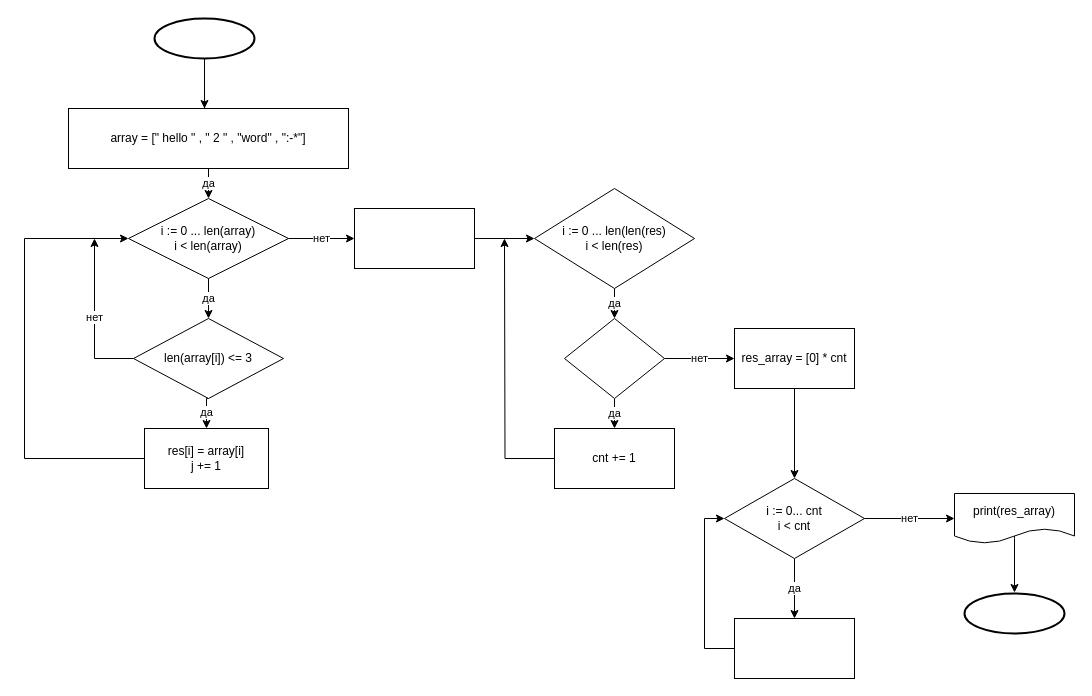
Some shapes in this 1092 by 696 pixel diagram are drawn without their labels. Here are the shapes that lost their labels. From the top down, the centre of each, then its label:
the point at 204,38: start
the point at 414,238: cnt = 0
the point at 614,358: res[i] i = 0
the point at 1014,613: End
the point at 794,648: res_array[i] = res[i]
